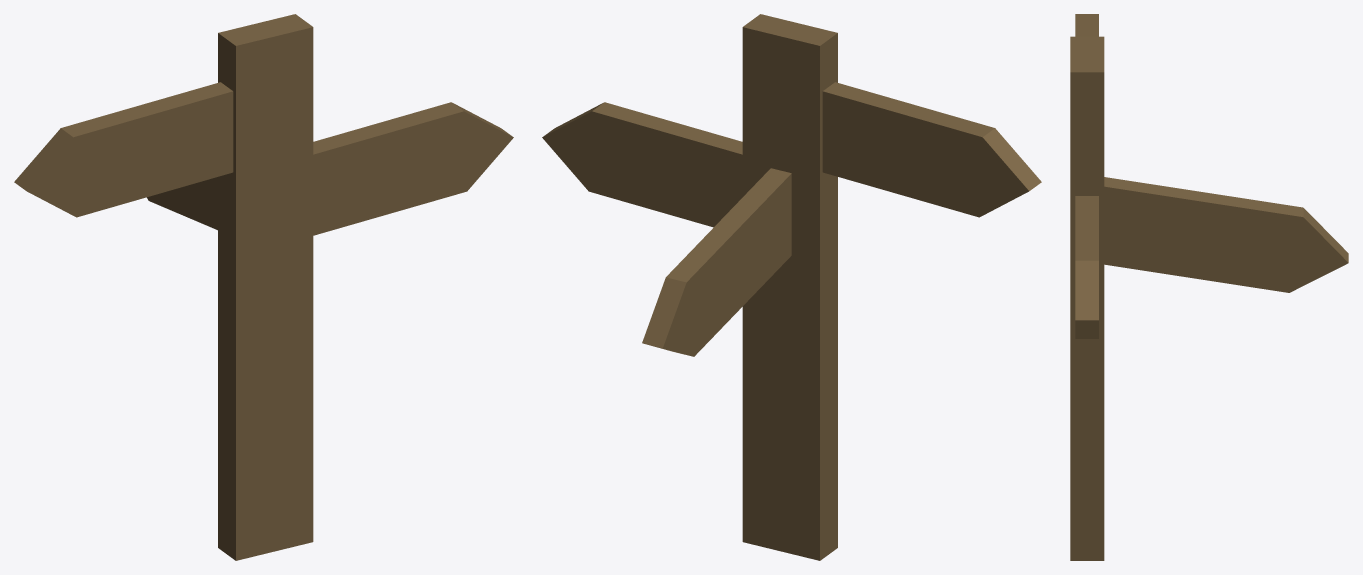
File: ukazatel.fbx
3 renders of one model, left to right at view 1: azimuth 30°, elevation 25°; view 2: azimuth 150°, elevation 25°; view 3: azimuth 270°, elevation 25°, orthographic. The views are drawn at different scales.
Parts seen in each view (by area): view 1: Cube.002; view 2: Cube.002; view 3: Cube.002.
Part boxes in pixels (x1,y1,x2,y2): Cube.002: (14, 14, 513, 560); Cube.002: (542, 14, 1041, 560); Cube.002: (1070, 14, 1348, 560).
Bounding box in the file's own units: 503 × 508 × 262.
